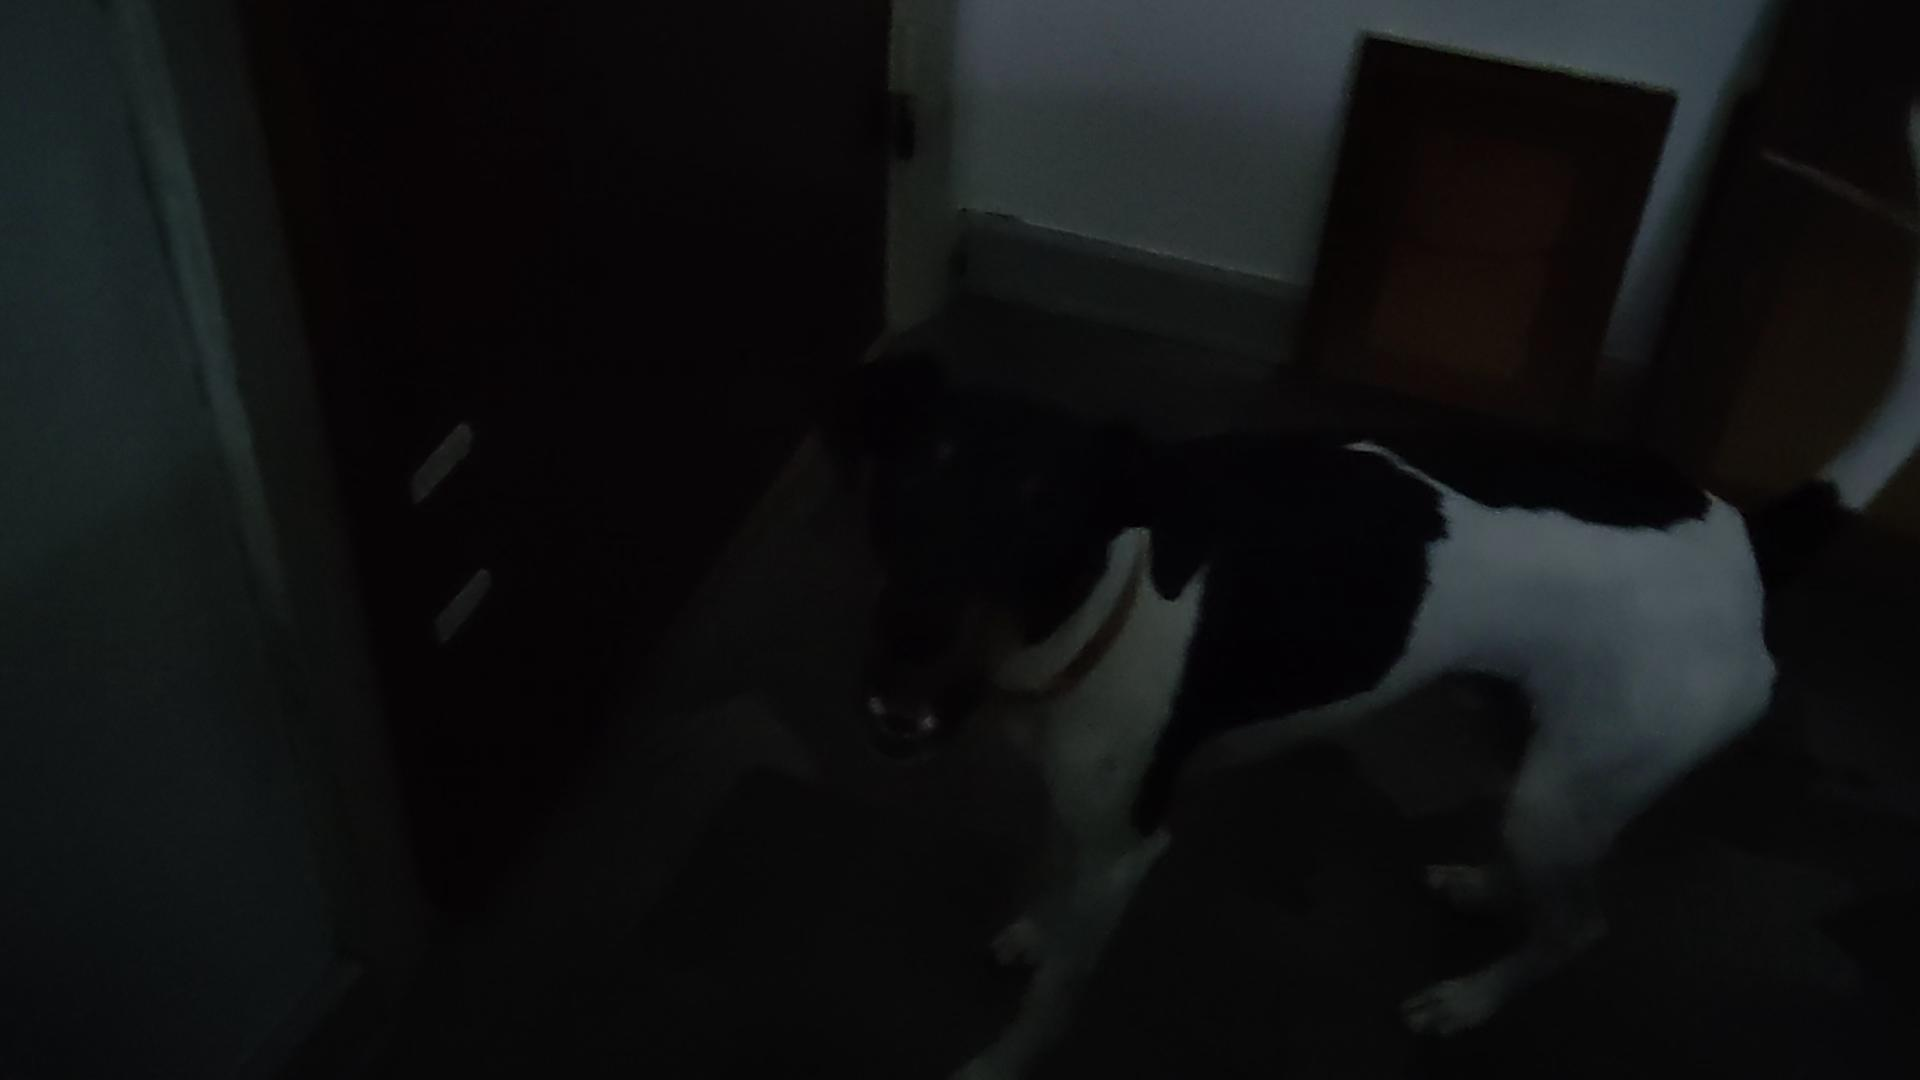Dog: (789, 258, 1919, 1079)
